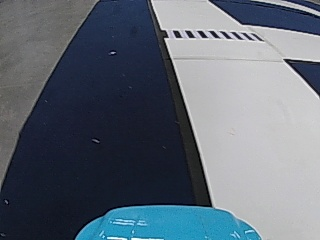CrossWalk: (161, 28, 259, 41)
